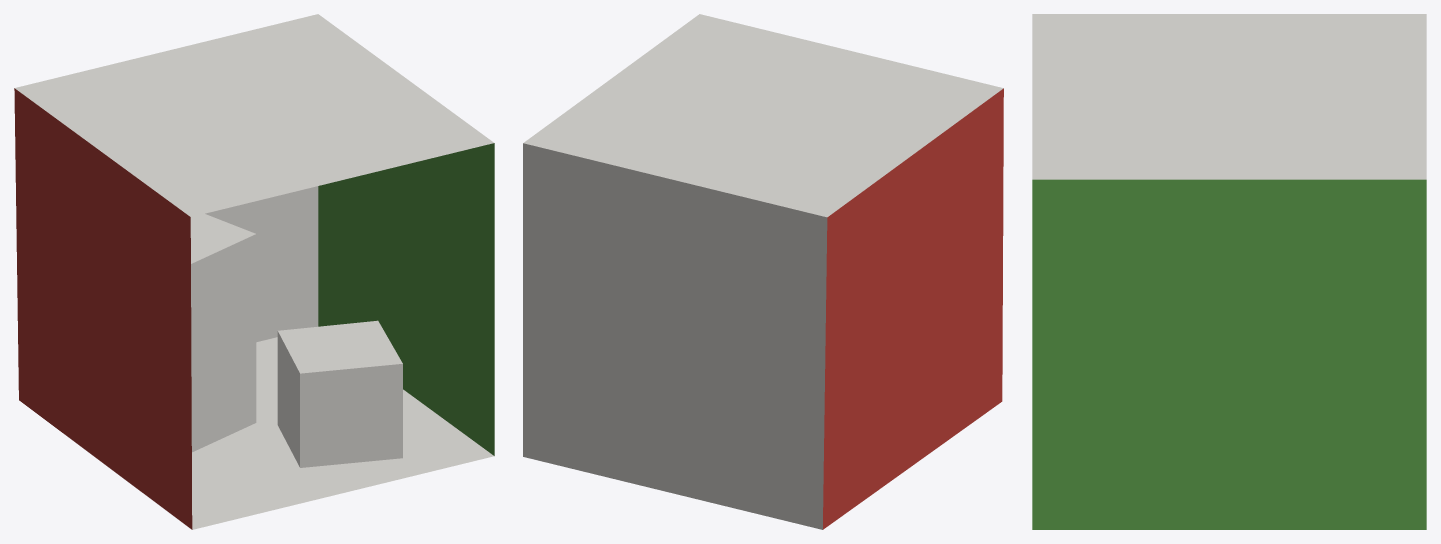
File: cornell-box.gltf
3 renders of one model, left to right at view 1: azimuth 30°, elevation 25°; view 2: azimuth 150°, elevation 25°; view 3: azimuth 270°, elevation 25°, orthographic. The views are drawn at different scales.
Visible parts, largest first — view 1: CornellBox-Original; view 2: CornellBox-Original; view 3: CornellBox-Original.
Boxes of the visible parts, box(x1,y1,x2,y2) form: CornellBox-Original: box(14, 14, 494, 529); CornellBox-Original: box(523, 14, 1003, 529); CornellBox-Original: box(1032, 14, 1426, 529).
Bounding box in the file's own units: 2.02 × 1.99 × 2.03.
